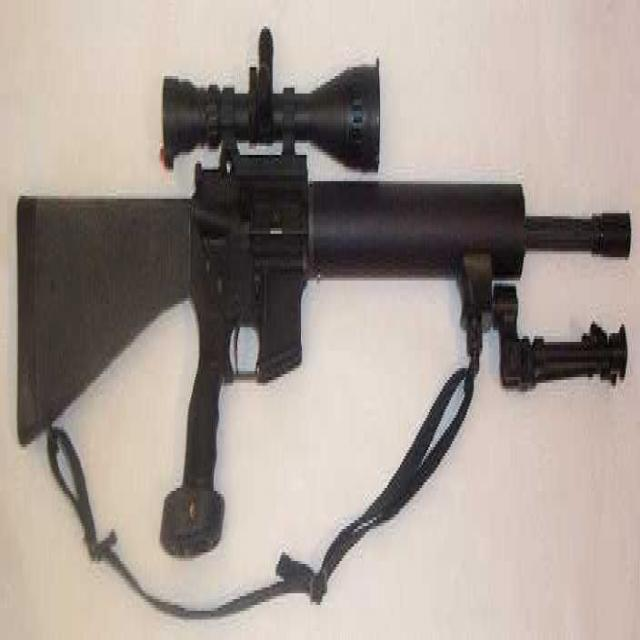Rifle: (9, 32, 636, 579)
